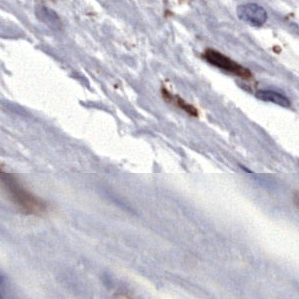Lymphocyte: (200, 46, 255, 80)
